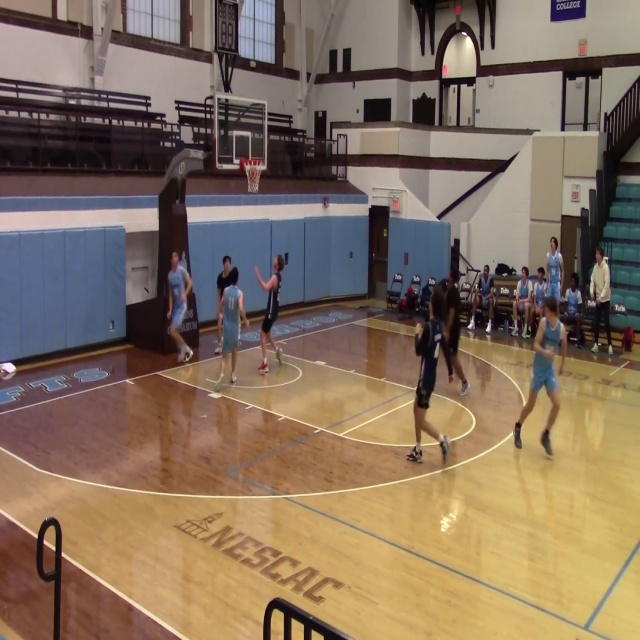Basketball: (0, 362, 16, 375)
